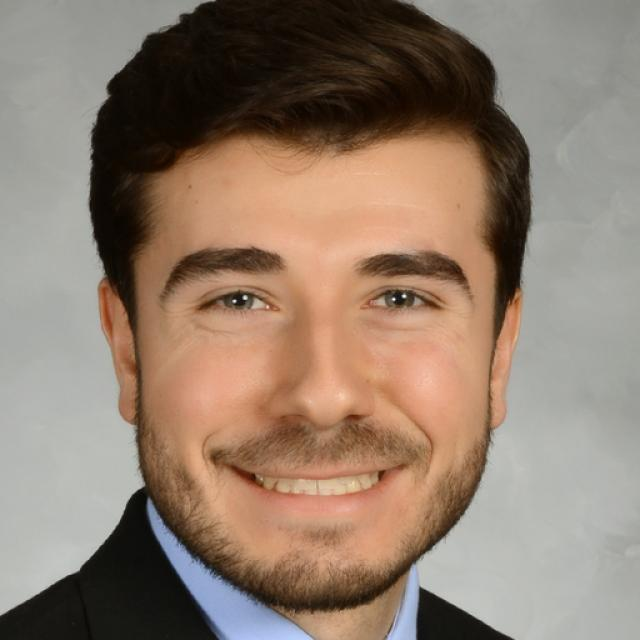happy: (135, 112, 495, 618)
